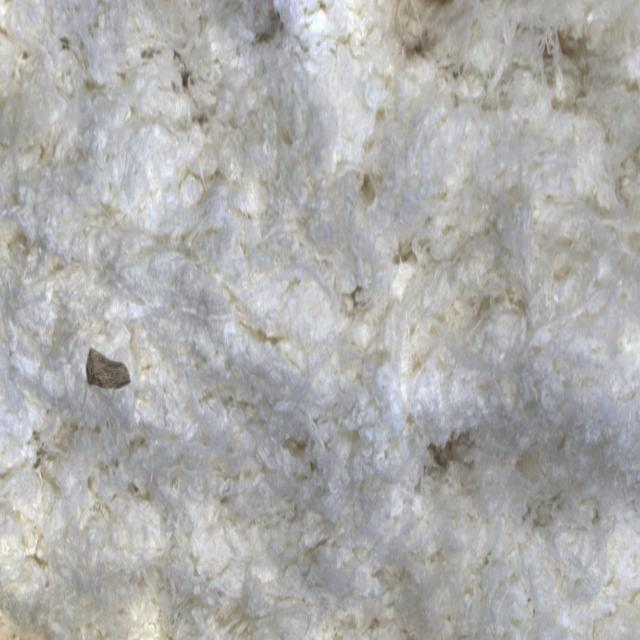dust: (56, 292, 158, 433)
